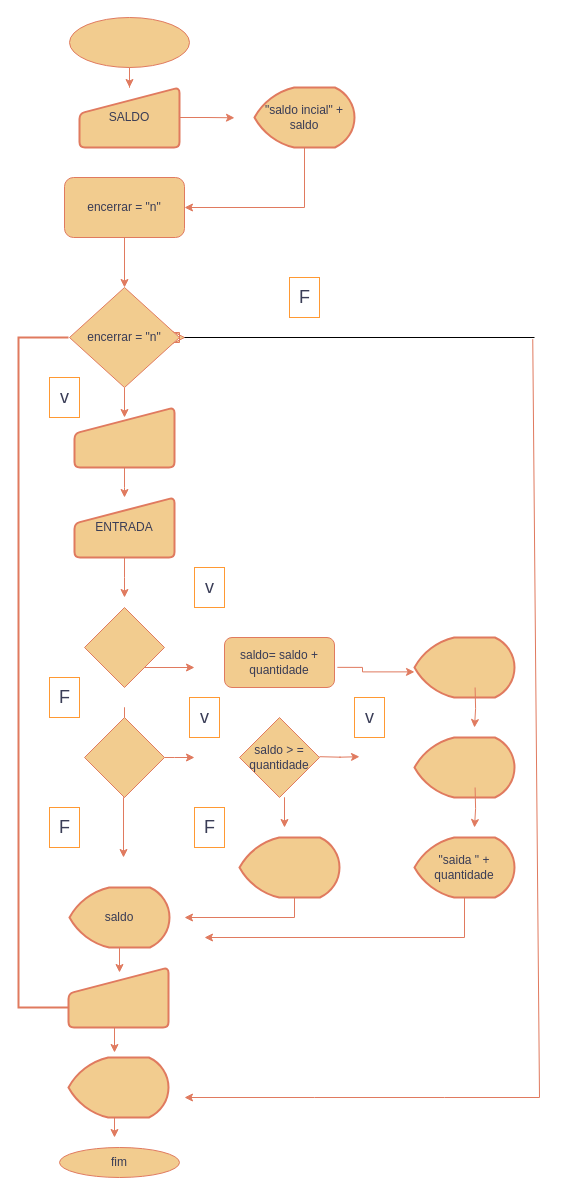
Image size: 565x1195. Some labels were removed from this diagram. The centre of each missing label's shape, as x and y in pixels:
"entrada" + quantidade: the point at 464,667
"saldo insuficiente": the point at 289,867
"sistema encerrado": the point at 118,1087
encerrar s/n ?: the point at 118,997
INICIO: the point at 129,42
saldo = saldo - quantidade: the point at 464,767
TIPO DE ENTRADA: the point at 124,437
tipo de entrada =1: the point at 124,647
tipo de entrada =2: the point at 124,757
